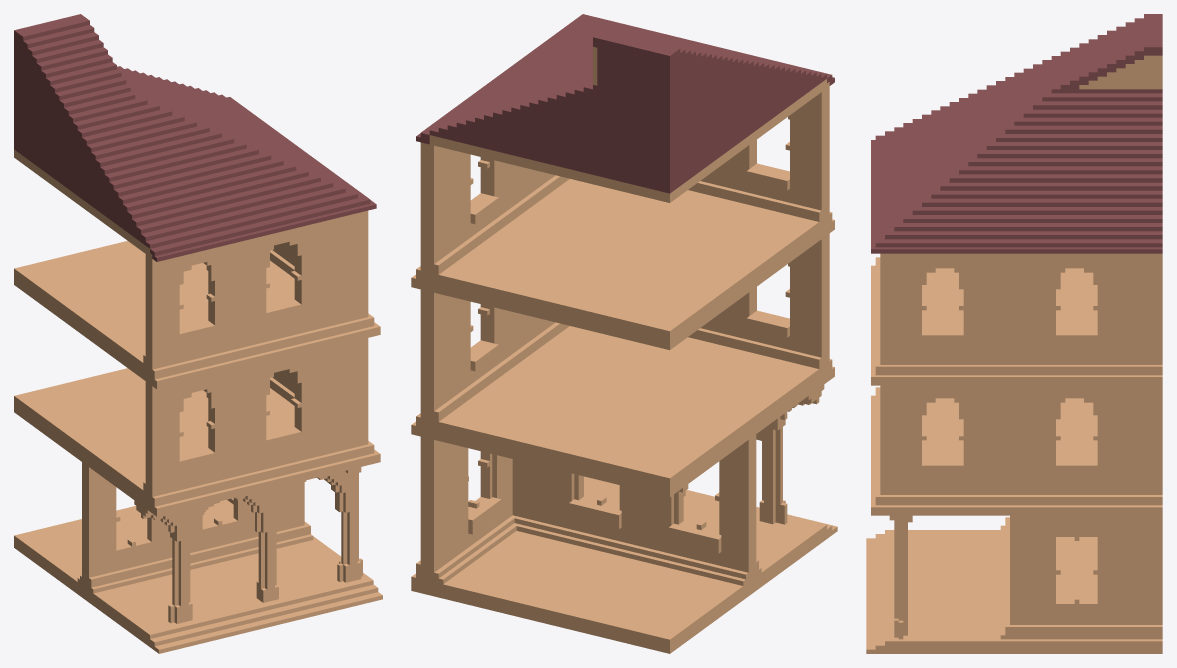
File: Filler LSU Building 1-5.obj
The picture shows the model from 3 angles, left to right: view 1: azimuth 30°, elevation 25°; view 2: azimuth 150°, elevation 25°; view 3: azimuth 270°, elevation 25°; orthographic projection. The views are drawn at different scales.
Visible parts, largest first — view 1: Filler LSU Building 1-5; view 2: Filler LSU Building 1-5; view 3: Filler LSU Building 1-5.
Part boxes in pixels (left/top/right/bottom): Filler LSU Building 1-5: left=14, top=14, right=382, bottom=653; Filler LSU Building 1-5: left=411, top=14, right=837, bottom=653; Filler LSU Building 1-5: left=866, top=14, right=1162, bottom=653.
Size of the model in its own units: 57 by 126 by 64.
1 material, 1 textured.
